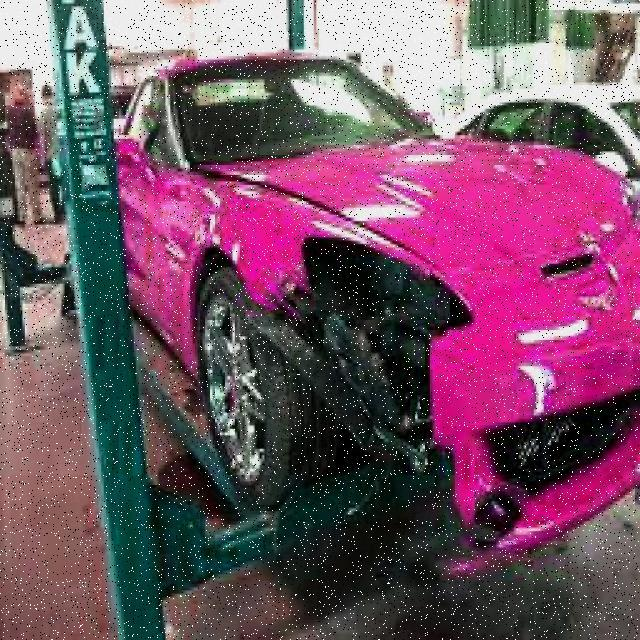car damage: (247, 224, 533, 586)
